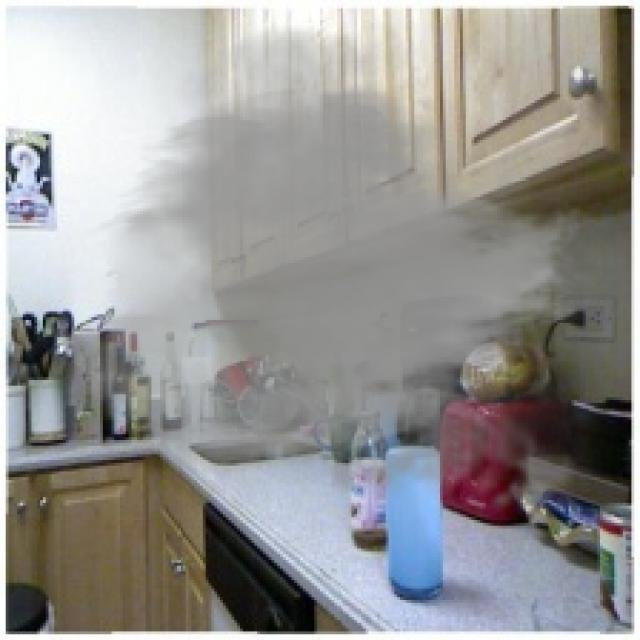Smoke: (71, 14, 632, 529)
